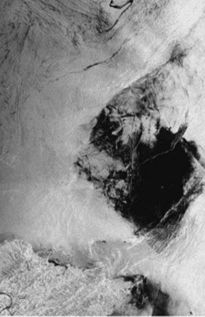anomaly: (68, 112, 205, 241)
